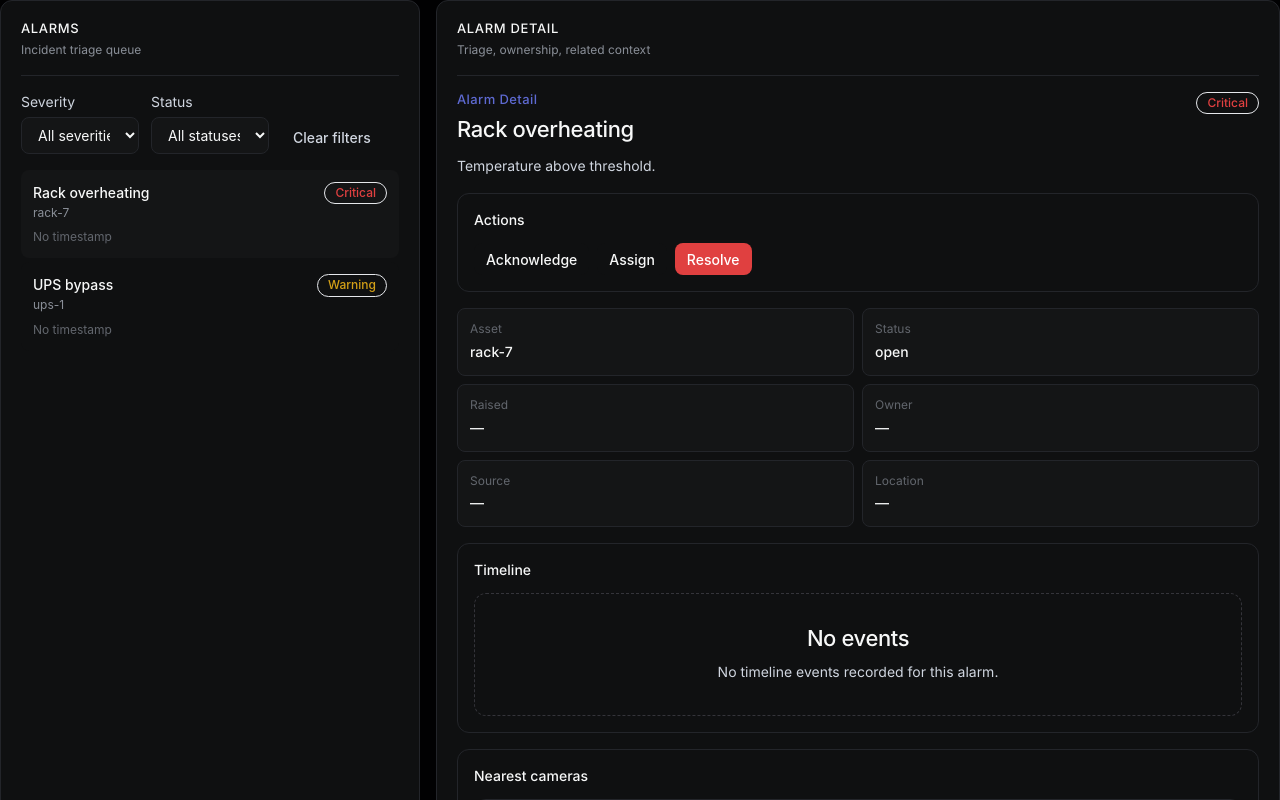
AlarmsPage › selects first alarm then updates detail when another alarm is clicked
This screenshot has width=1280, height=800.
Expected: the heading "Rack overheating" is shown, x1=457 y1=117 x2=634 y2=144
Expected: the text "Temperature above threshold." is shown, x1=457 y1=158 x2=656 y2=175
Step 1. Click the button "UPS bypass ups-1 Warning No timestamp" → {"x": 73, "y": 285}, box x1=21 y1=262 x2=399 y2=351
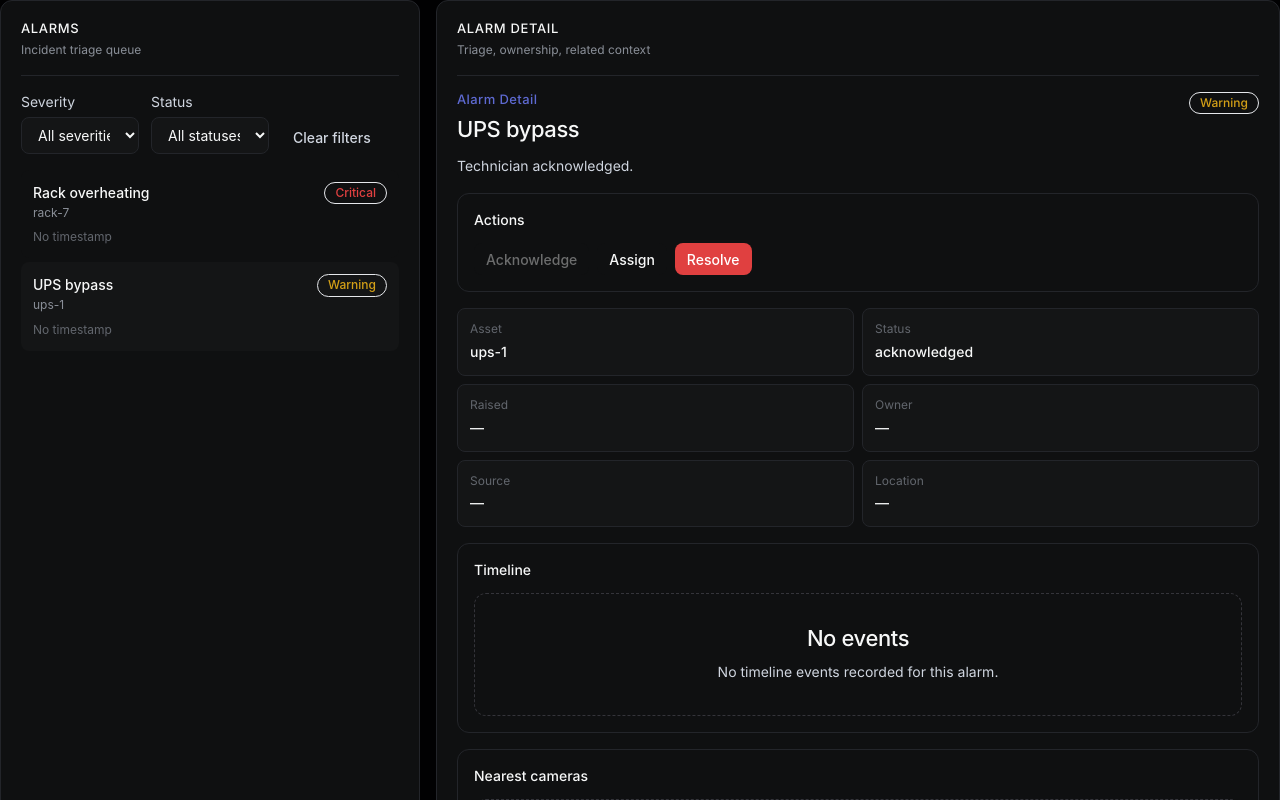
Now the heading "UPS bypass" is shown, box x1=457 y1=117 x2=579 y2=144
Now the text "Technician acknowledged." is shown, box x1=457 y1=158 x2=633 y2=175
